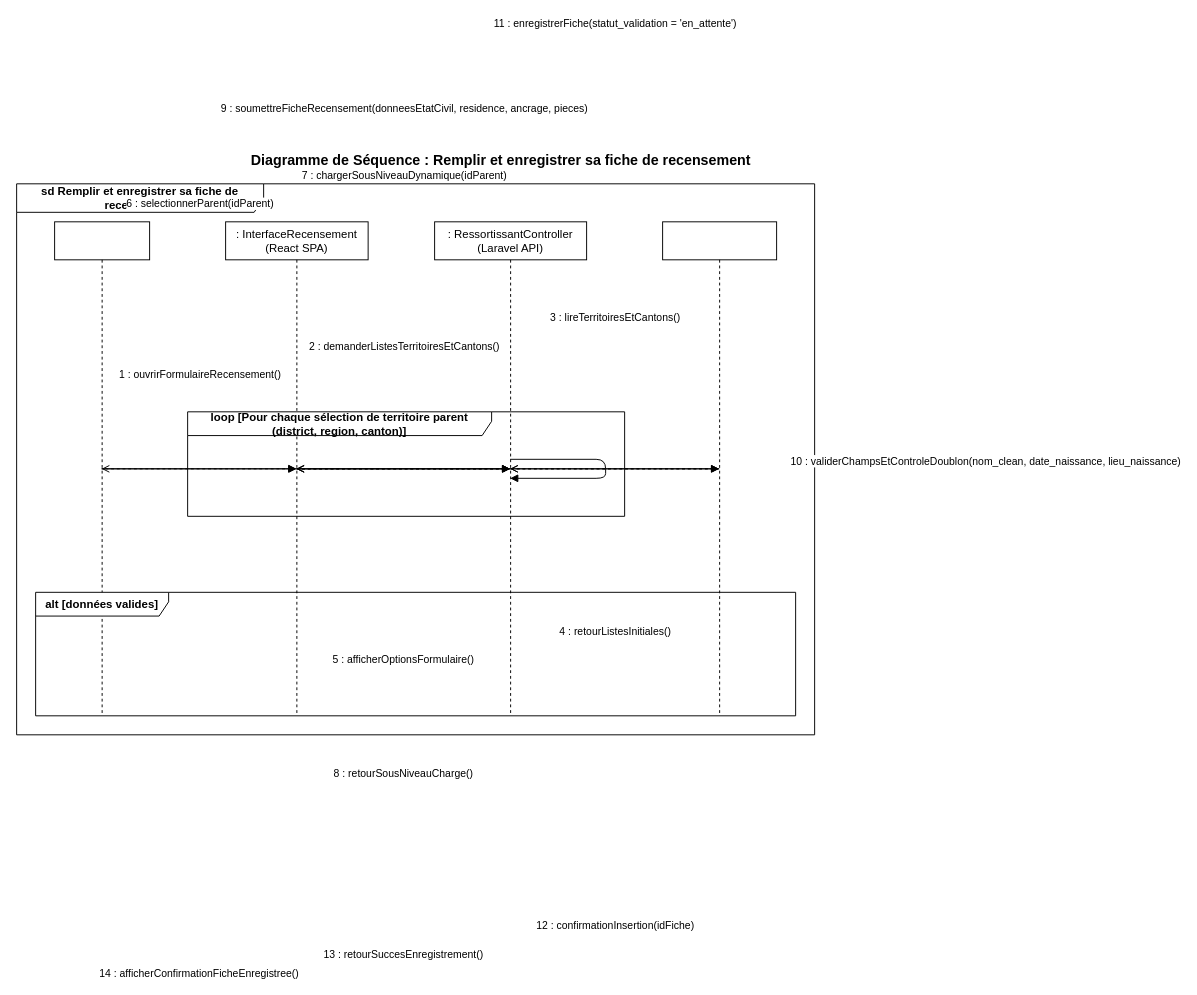
Image size: 1197x995. Some labels were removed from this diagram. Each missing label, with the box of its shape:
: BaseDeDonnees: (662, 221, 777, 716)
Ressortissant (Citoyen): (54, 221, 150, 716)
